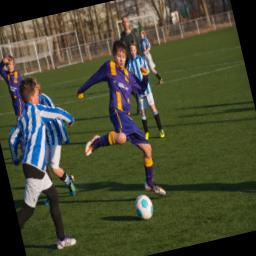football: (132, 192, 155, 221)
